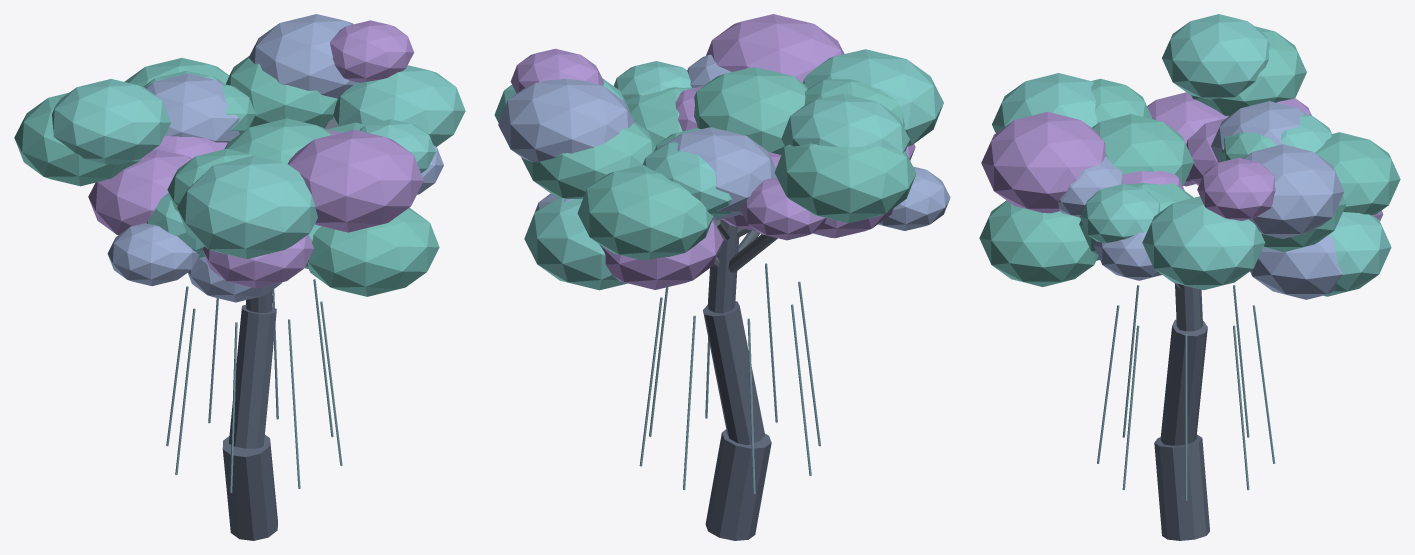
The model's file is hexcore_living_tree_11.glb.
The picture shows the model from 3 angles, left to right: view 1: azimuth 30°, elevation 25°; view 2: azimuth 150°, elevation 25°; view 3: azimuth 270°, elevation 25°; orthographic projection. The views are drawn at different scales.
Visible parts, largest first — view 1: world; view 2: world; view 3: world.
Part boxes in pixels (<box>): world: <box>14,14,465,540</box>; world: <box>494,14,950,540</box>; world: <box>979,14,1400,540</box>.
Bounding box in the file's own units: 24.23 × 25.83 × 21.77.
